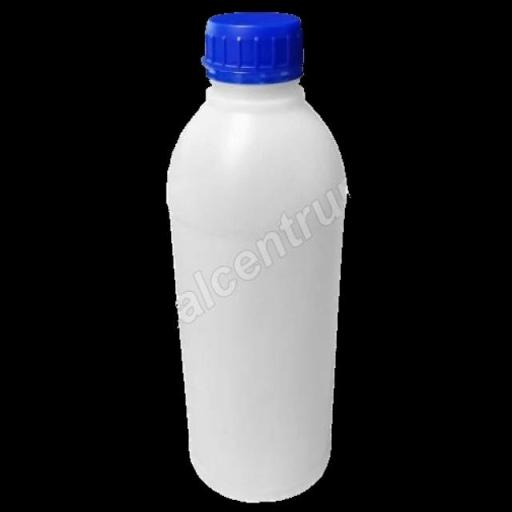plastic: (161, 5, 352, 509)
